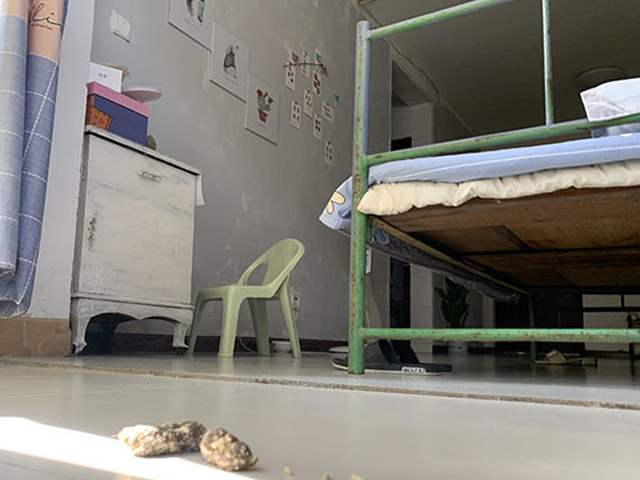bed: (346, 1, 640, 377)
cabinet: (71, 125, 200, 354)
feces: (115, 419, 262, 472)
slippers: (331, 338, 454, 376), (531, 347, 598, 368)
stool: (184, 236, 306, 360)
